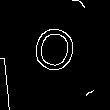O_S: (28, 23, 81, 82)
